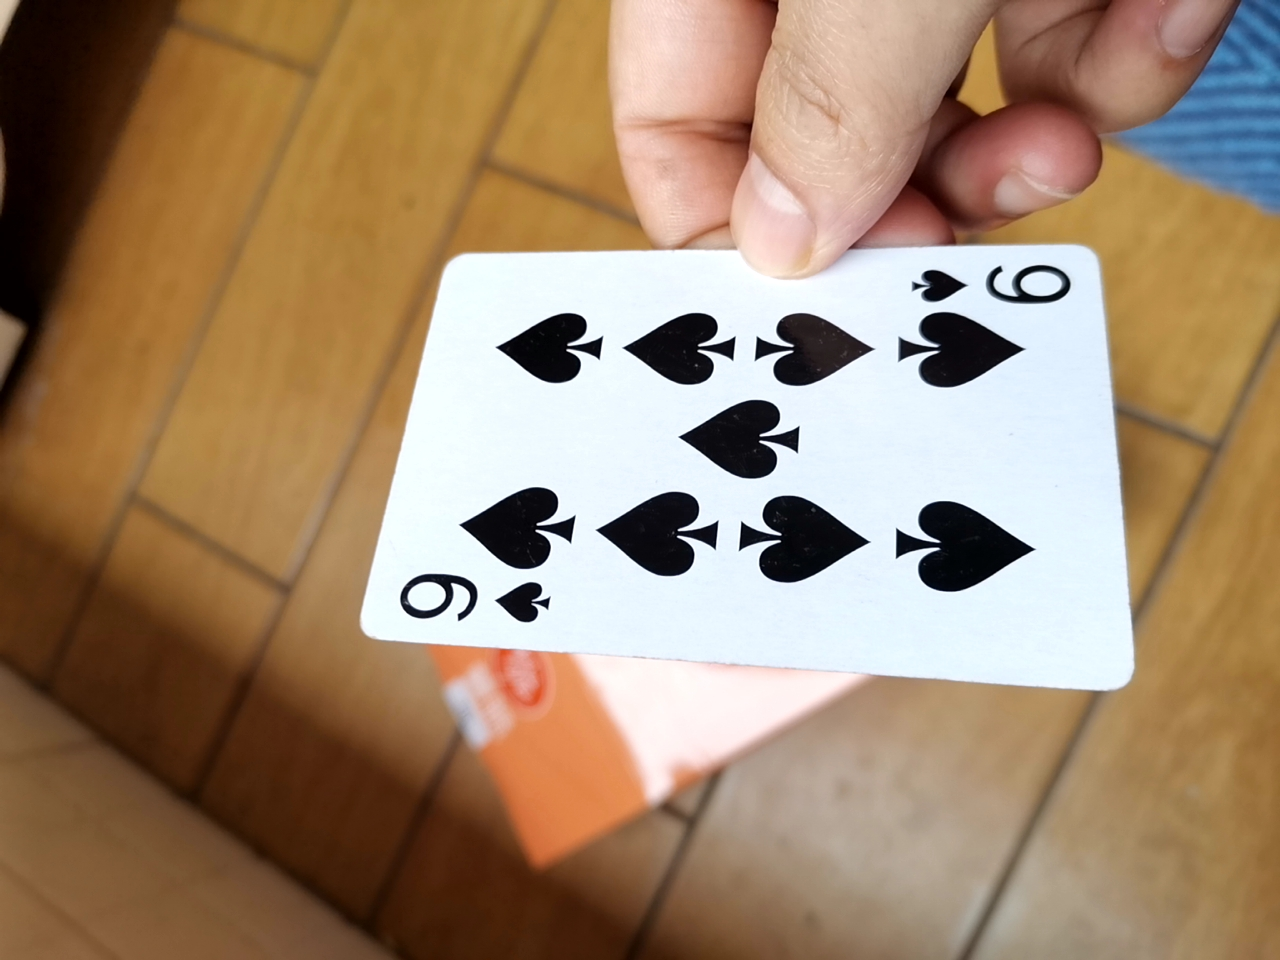ht 9: (344, 236, 1145, 710)
